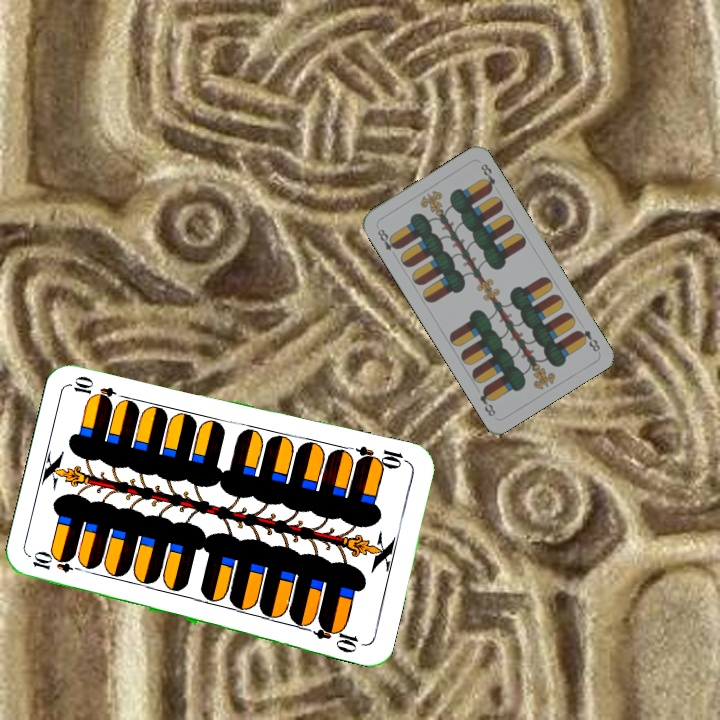E10: (352, 442, 411, 472), (28, 550, 88, 576)
E8: (373, 225, 401, 259), (573, 326, 603, 354)
